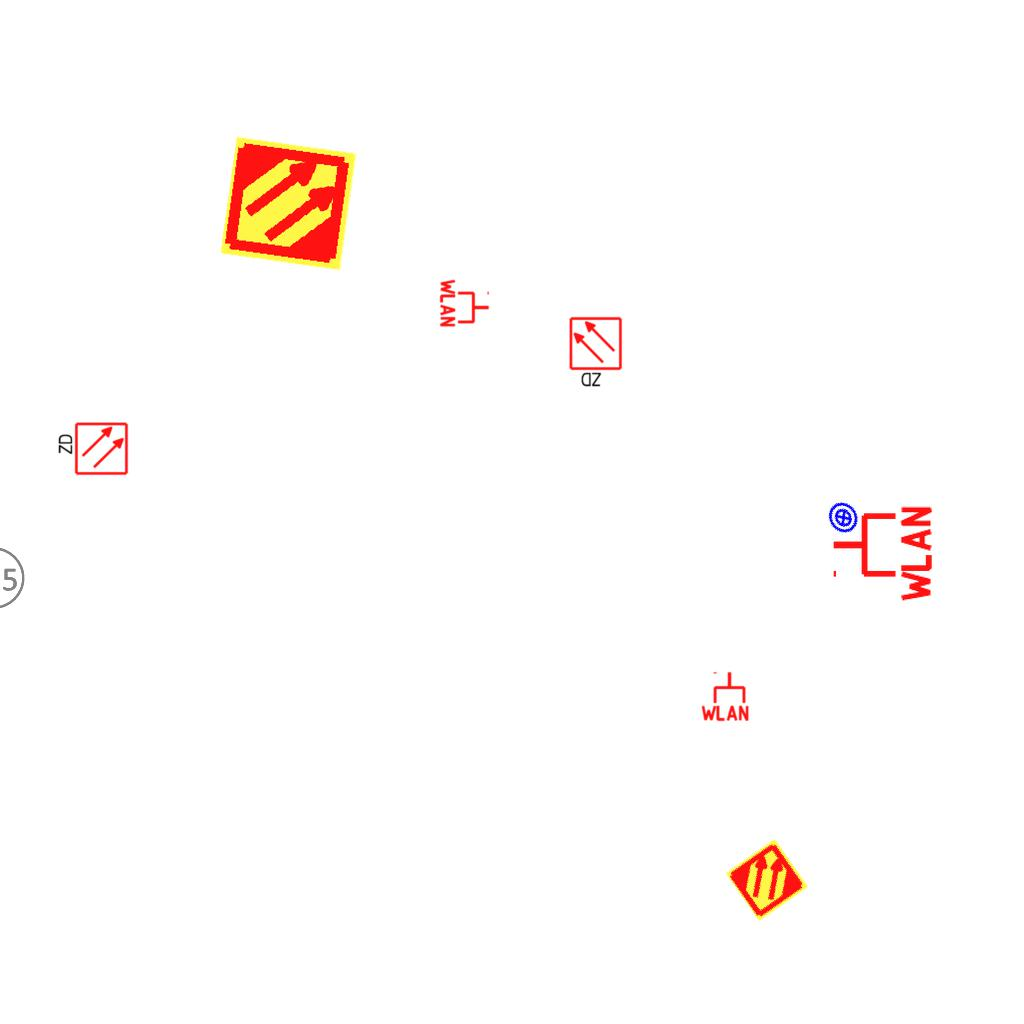ASR_Ansaugrauchmelder: (217, 132, 360, 275), (723, 836, 811, 924)
Taster_beleuchtet: (820, 494, 867, 541)
WLAN: (829, 502, 934, 606), (699, 670, 751, 722), (439, 277, 491, 329)
ZD_Melder_in_Zwischendecke_mit_Revisionsoeffnung_mind_40_x_40_cm: (568, 316, 625, 390), (55, 421, 129, 478)
